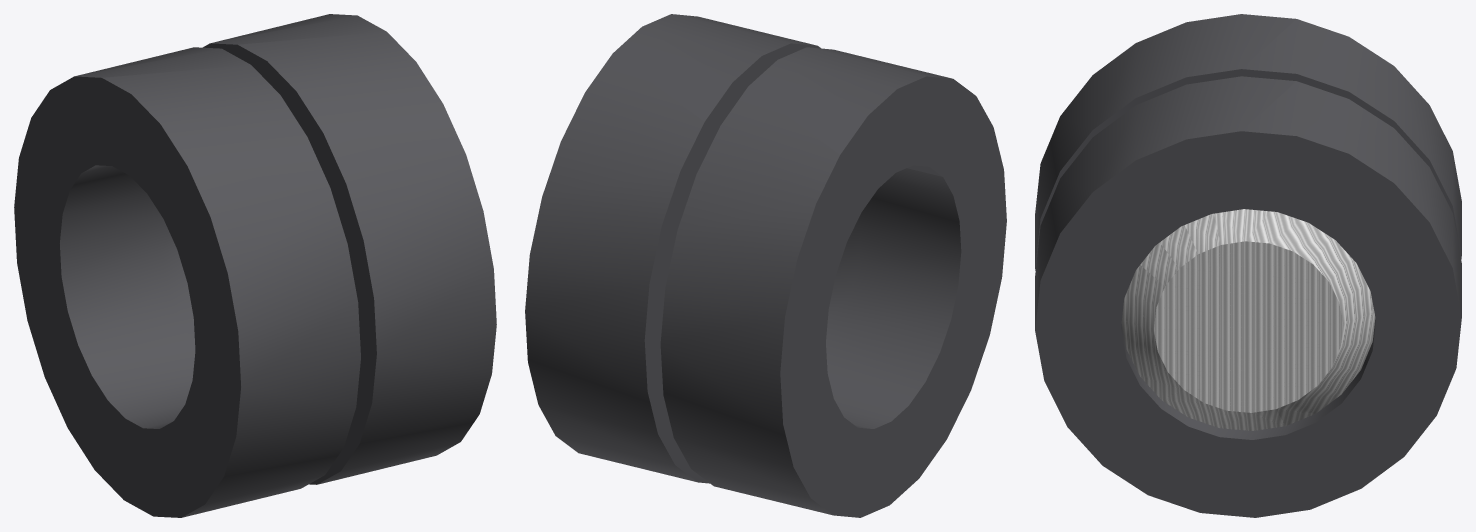
Rendered from llanta3.obj.
3 views of the same model, side by side, from view 1: azimuth 30°, elevation 25°; view 2: azimuth 150°, elevation 25°; view 3: azimuth 270°, elevation 25° (orthographic). The views are drawn at different scales.
Parts seen in each view (by area): view 1: tractor1:object_47; view 2: tractor1:object_47; view 3: tractor1:object_47.
Part boxes in pixels (left/top/right/bottom): tractor1:object_47: left=14, top=14, right=496, bottom=517; tractor1:object_47: left=525, top=14, right=1006, bottom=517; tractor1:object_47: left=1035, top=14, right=1461, bottom=517.
Bounding box in the file's own units: 0.0157 × 0.0237 × 0.0236.
2 materials, 2 textured.
